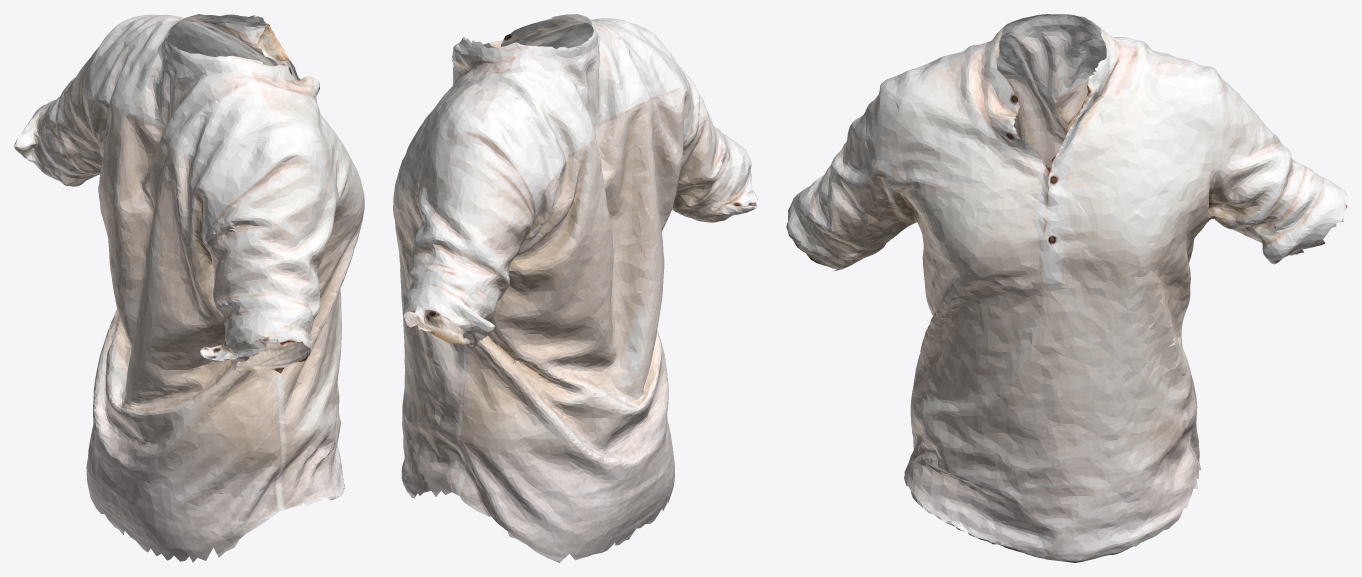
File: upper_uv.obj
3 views of the same model, side by side, from view 1: azimuth 30°, elevation 25°; view 2: azimuth 150°, elevation 25°; view 3: azimuth 270°, elevation 25° (orthographic). The views are drawn at different scales.
Size of the model in its own units: 0.3615 by 0.7125 by 0.7261.
1 material, 1 textured.
